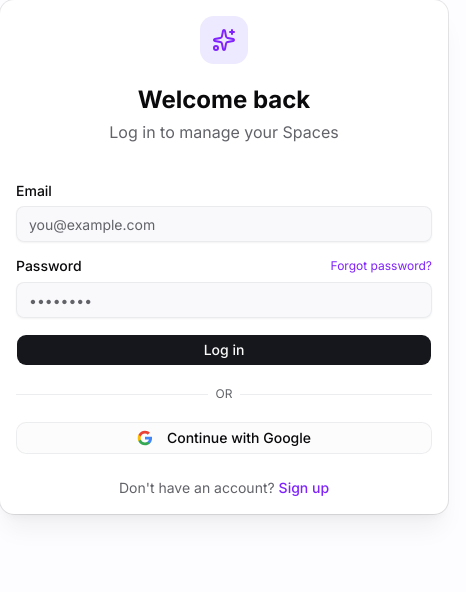
Test: AuthForm › login submission › displays server error message on failed login
Step 1. Type "user@example.com" into the field labelled "Email" → (224, 224), box left=16, top=206, right=432, bottom=242
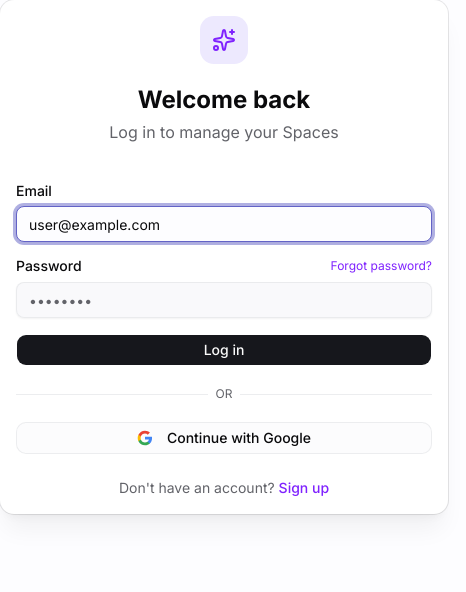
Step 2. Type "wrongpassword" into the password field labelled "Password" → (224, 300), box left=16, top=282, right=432, bottom=318
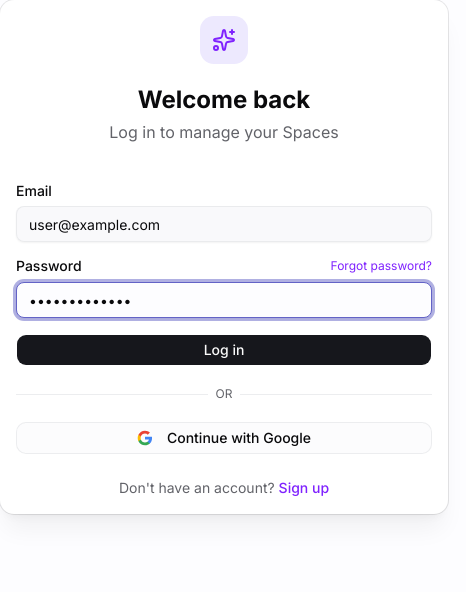
Step 3. Click the button "Log in" → click(224, 350), box left=16, top=334, right=432, bottom=366
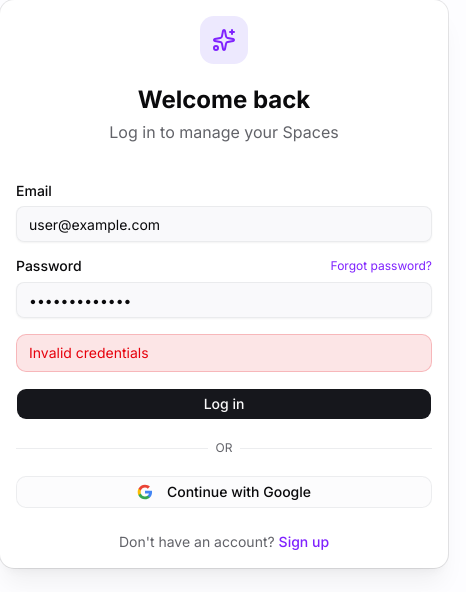
expect the text "Invalid credentials" is shown: met, box left=29, top=344, right=149, bottom=361
